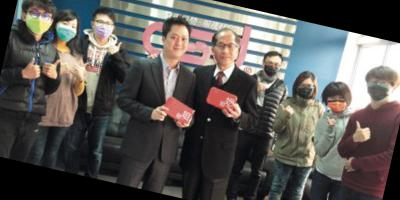with_mask: (23, 6, 56, 38), (365, 75, 395, 106), (54, 17, 80, 46), (91, 17, 114, 41), (295, 80, 318, 102), (328, 93, 350, 116), (263, 59, 281, 80)
without_mask: (162, 30, 193, 61), (212, 37, 239, 66)
